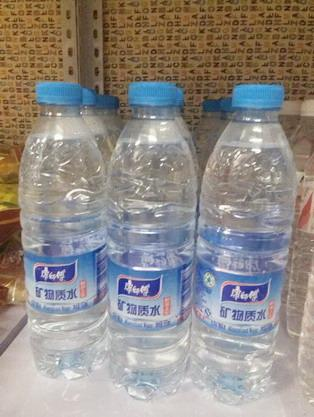amwater: (16, 69, 296, 411)
